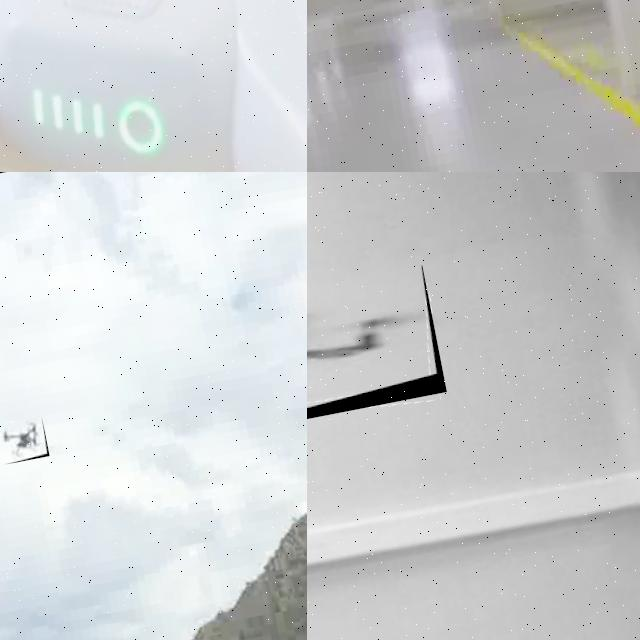0: (307, 265, 447, 449), (0, 416, 50, 464)
drone: (0, 0, 307, 172)
